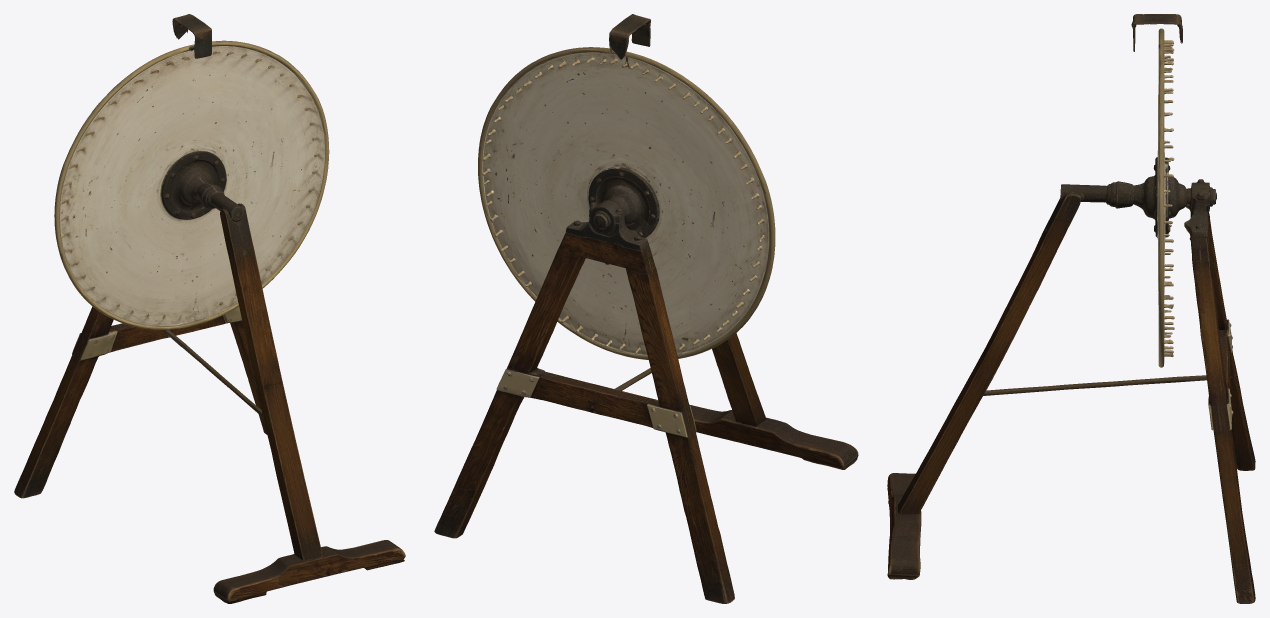
Rendered from fortune_wheel.glb.
3 renders of one model, left to right at view 1: azimuth 30°, elevation 25°; view 2: azimuth 150°, elevation 25°; view 3: azimuth 270°, elevation 25°, orthographic. The views are drawn at different scales.
Visible parts, largest first — view 1: Mesh_0; view 2: Mesh_0; view 3: Mesh_0.
Boxes of the visible parts, x1,y1,x2,y2 form: Mesh_0: [14, 14, 405, 603]; Mesh_0: [434, 14, 858, 603]; Mesh_0: [887, 14, 1255, 603].
Size of the model in its own units: 1.15 by 1.9 by 1.23.
1 material, 1 textured.
